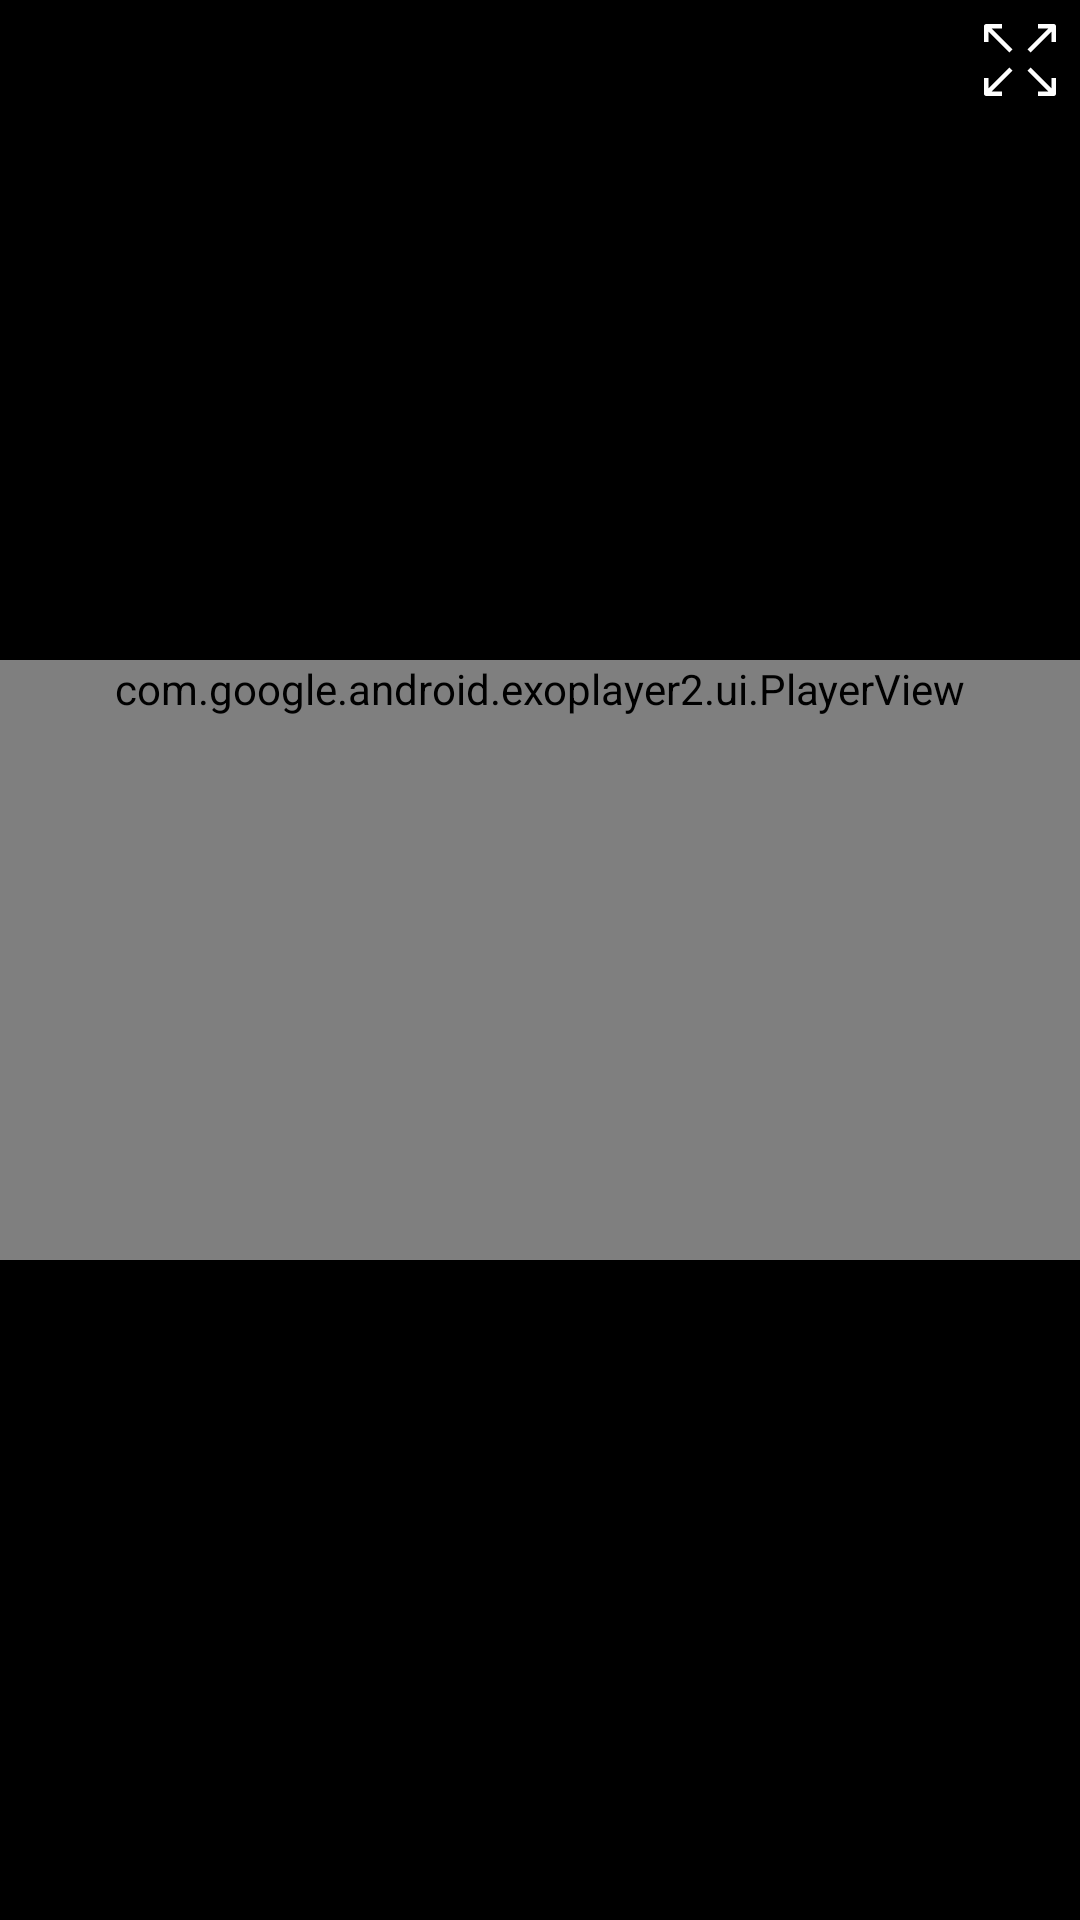

Point at icon controls on the screen. Image size 1080×1920, points as (x=x, y=y).
expand: (x=1020, y=60)
